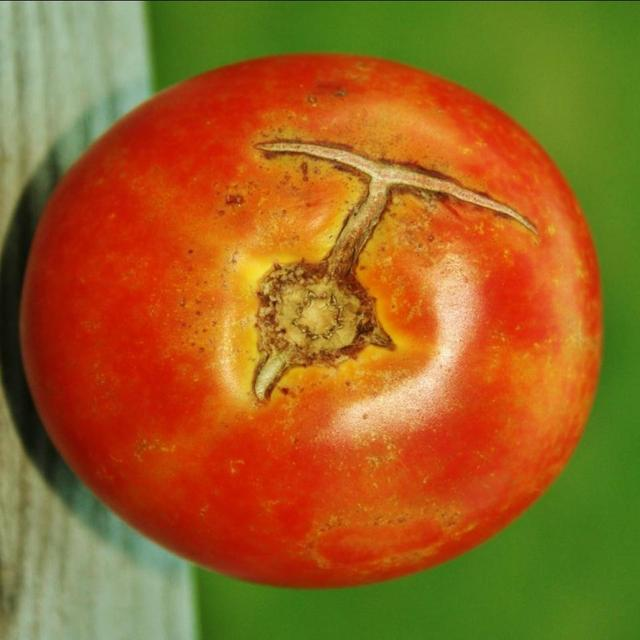Cracking Fruit: (156, 77, 365, 164)
